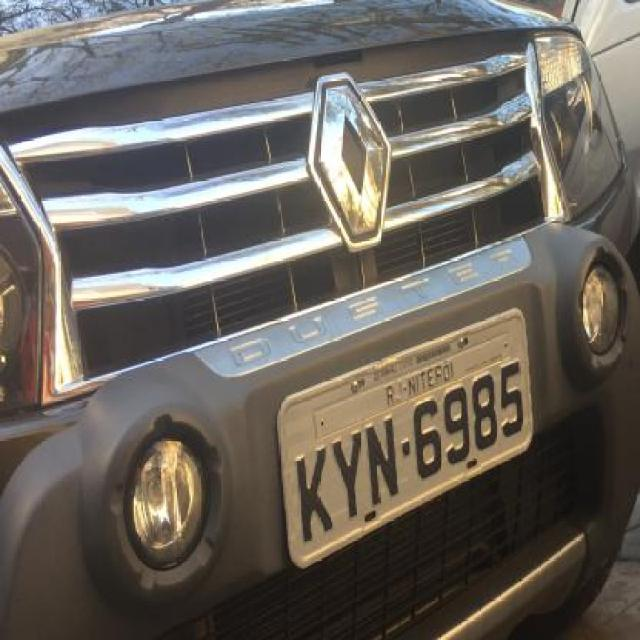old_plate: (268, 301, 541, 578)
